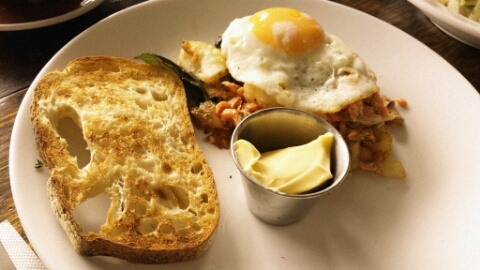fried egg: (225, 2, 383, 106)
slice of bread: (32, 53, 223, 257)
